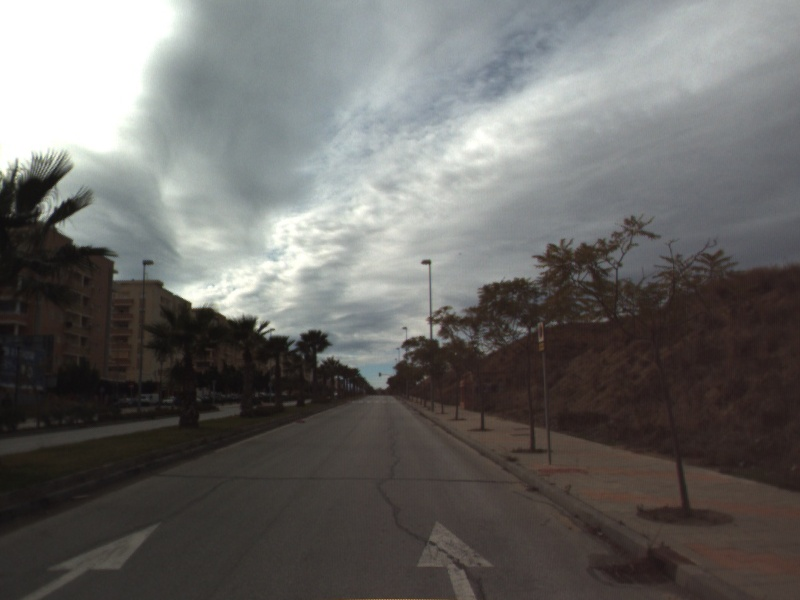STRAIGHT: (15, 519, 164, 600), (415, 518, 497, 600)
